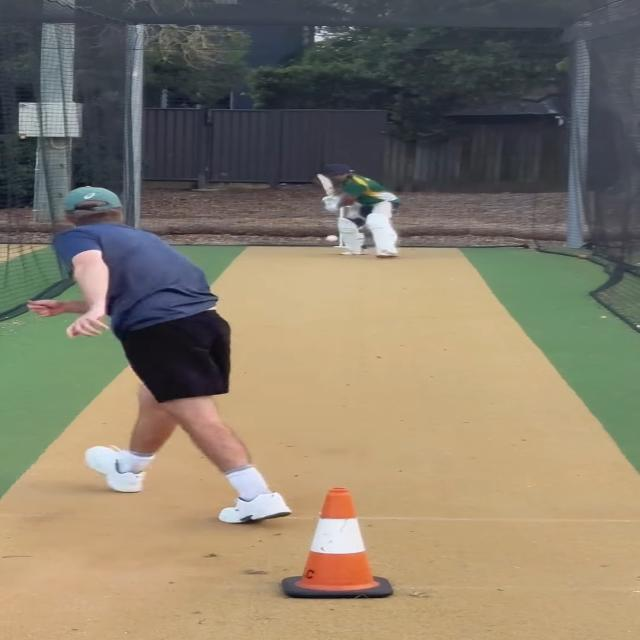Cricket ball: (324, 233, 340, 242)
